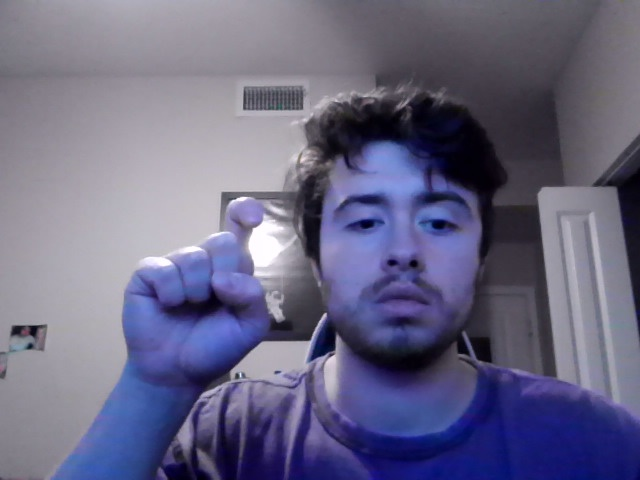x: (120, 196, 272, 414)
